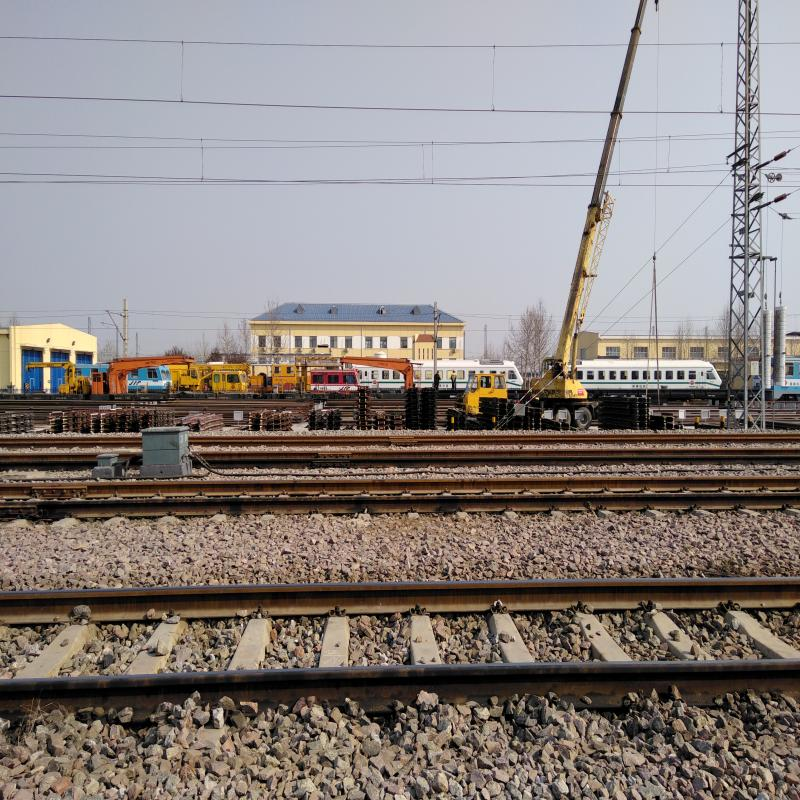train: (555, 360, 720, 397), (408, 360, 528, 386)
